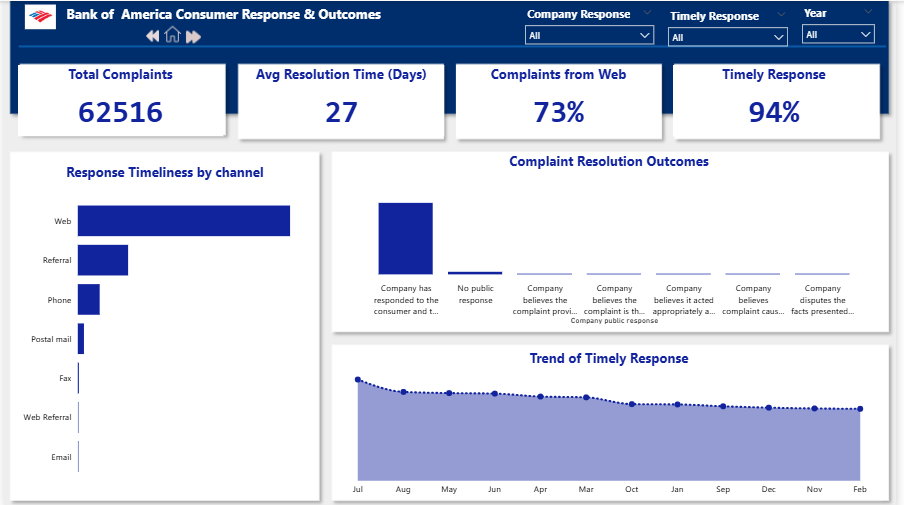

This screenshot's page, from the dashboard's own definition file:
{"tool":"powerbi","page":{"name":"Response and  Resolution Analysis","canvas":[1280,720],"ordinal":1},"visuals":[{"type":"clusteredBarChart","title":"Response Timeliness by channel","fields":{"Y":["CountNonNull(Data.Timely response?)"],"Category":["Data.Submitted via"]},"box":[32.6,229.6,425.2,466.3],"z":0},{"type":"clusteredColumnChart","title":"Complaint Resolution Outcomes","fields":{"Category":["Data.Company public response"],"Y":["CountNonNull(Data.Submitted via)"]},"box":[487.6,214,773.9,249.4],"z":1000},{"type":"areaChart","title":"Trend of Timely Response ","fields":{"Y":["CountNonNull(Data.Timely response?)"],"Category":["Data.Name of Month Recieved"]},"box":[487.6,493.2,773.9,216.9],"z":2000},{"type":"card","title":"Total Complaints","fields":{"Values":["Data.Total Complaints"]},"box":[36.9,90.7,290.6,100.6],"z":3000},{"type":"card","title":"Avg Resolution Time (Days)","fields":{"Values":["Data.% Resolved Complaints"]},"box":[350.1,90.7,290.6,100.6],"z":4000},{"type":"card","title":" Timely Response","fields":{"Values":["Data.% Timely Responses"]},"box":[965.2,90.7,286.3,100.6],"z":5000},{"type":"card","title":" Complaints from Web","fields":{"Values":["Data.% Web Complaints"]},"box":[657.6,90.7,290.6,100.6],"z":6000},{"type":"image","box":[32.6,0,72.3,45.4],"z":7000},{"type":"textbox","box":[100.6,0,463.5,45.4],"z":8000},{"type":"slicer","fields":{"Values":["Data.Company response to consumer"]},"box":[745.5,1.4,202.7,63.8],"z":9000},{"type":"slicer","title":"Response","fields":{"Values":["Data.Timely response?"]},"box":[948.2,4.3,189.9,63.8],"z":10000},{"type":"slicer","fields":{"Values":["Data.Year Received"]},"box":[1138.1,0,123.3,63.8],"z":11000},{"type":"image","box":[206.9,29.8,97.8,34],"z":12000},{"type":"image","box":[206.9,34,41.1,31.2],"z":13000},{"type":"image","box":[266.5,34,38.3,34],"z":14000}]}

Visuals, with their boxes in screenshot pixels (x1, y1, x2, y2), scaled from the page's 1280x720 canvas onto the 904x505 screenshot:
"Response Timeliness by channel" clusteredBarChart: left=23, top=161, right=323, bottom=488
"Complaint Resolution Outcomes" clusteredColumnChart: left=344, top=150, right=891, bottom=325
"Trend of Timely Response " areaChart: left=344, top=346, right=891, bottom=498
"Total Complaints" card: left=26, top=64, right=231, bottom=134
"Avg Resolution Time (Days)" card: left=247, top=64, right=452, bottom=134
" Timely Response" card: left=682, top=64, right=884, bottom=134
" Complaints from Web" card: left=464, top=64, right=670, bottom=134
image: left=23, top=0, right=74, bottom=32
textbox: left=71, top=0, right=398, bottom=32
slicer - Data.Company response to consumer: left=527, top=1, right=670, bottom=46
"Response" slicer: left=670, top=3, right=804, bottom=48
slicer - Data.Year Received: left=804, top=0, right=891, bottom=45
image: left=146, top=21, right=215, bottom=45
image: left=146, top=24, right=175, bottom=46
image: left=188, top=24, right=215, bottom=48
